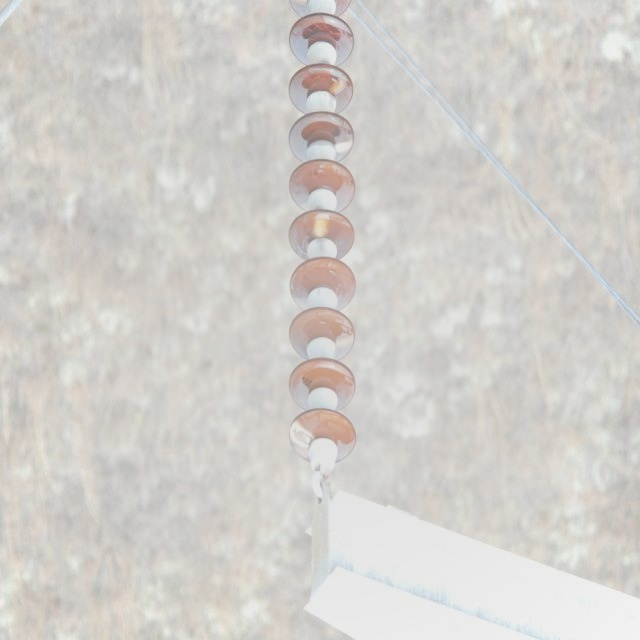insulator: (289, 0, 355, 462)
